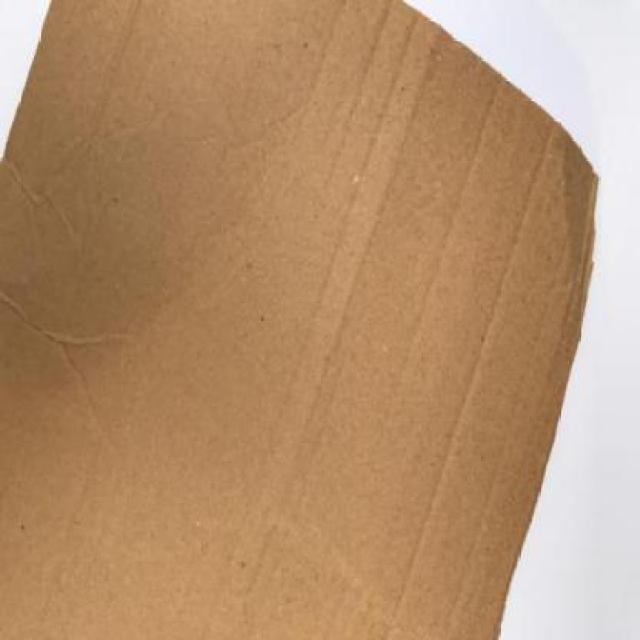CARDBOARD: (0, 0, 598, 640)
